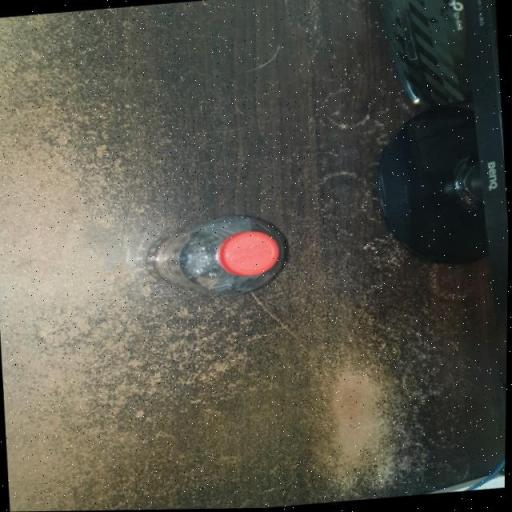plastic: (138, 203, 318, 324)
